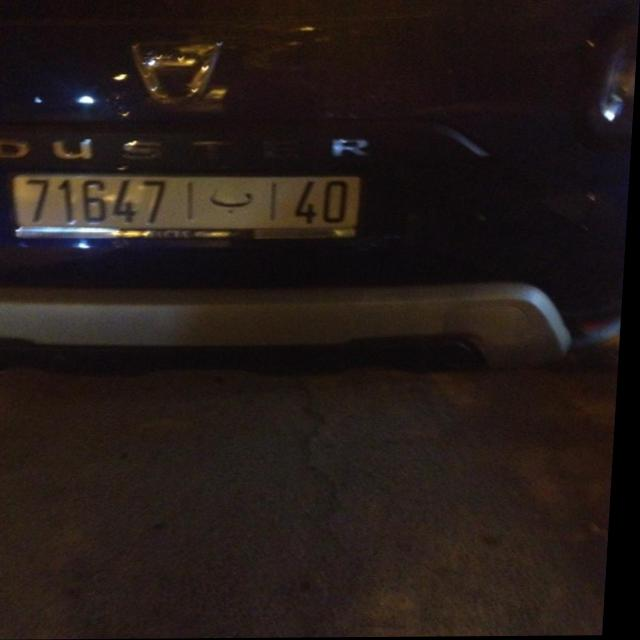License-Plate: (15, 175, 363, 239)
